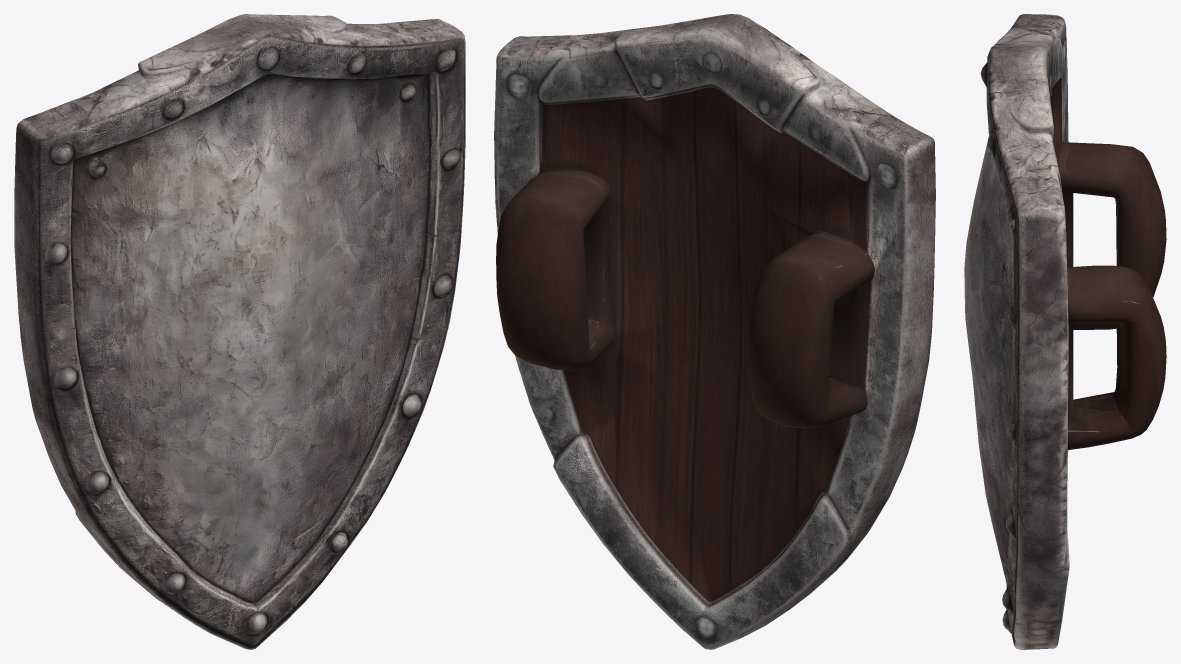
File: Standard.glb
3 views of the same model, side by side, from view 1: azimuth 30°, elevation 25°; view 2: azimuth 150°, elevation 25°; view 3: azimuth 270°, elevation 25° (orthographic). The views are drawn at different scales.
Parts seen in each view (by area): view 1: Mesh1.0; view 2: Mesh1.0; view 3: Mesh1.0.
Part boxes in pixels (x1=…): Mesh1.0: x1=14, y1=14, x2=465, y2=649; Mesh1.0: x1=494, y1=14, x2=935, y2=649; Mesh1.0: x1=964, y1=14, x2=1166, y2=649.
Size of the model in its own units: 1.38 by 1.91 by 0.586.
1 material, 1 textured.
